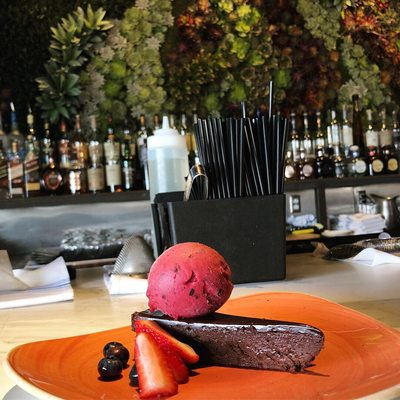burger: (146, 115, 191, 260), (69, 114, 89, 195), (87, 116, 105, 195), (103, 127, 123, 194), (121, 118, 136, 191), (136, 115, 148, 191)
